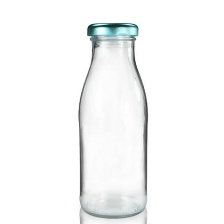bottle: (74, 16, 151, 220)
